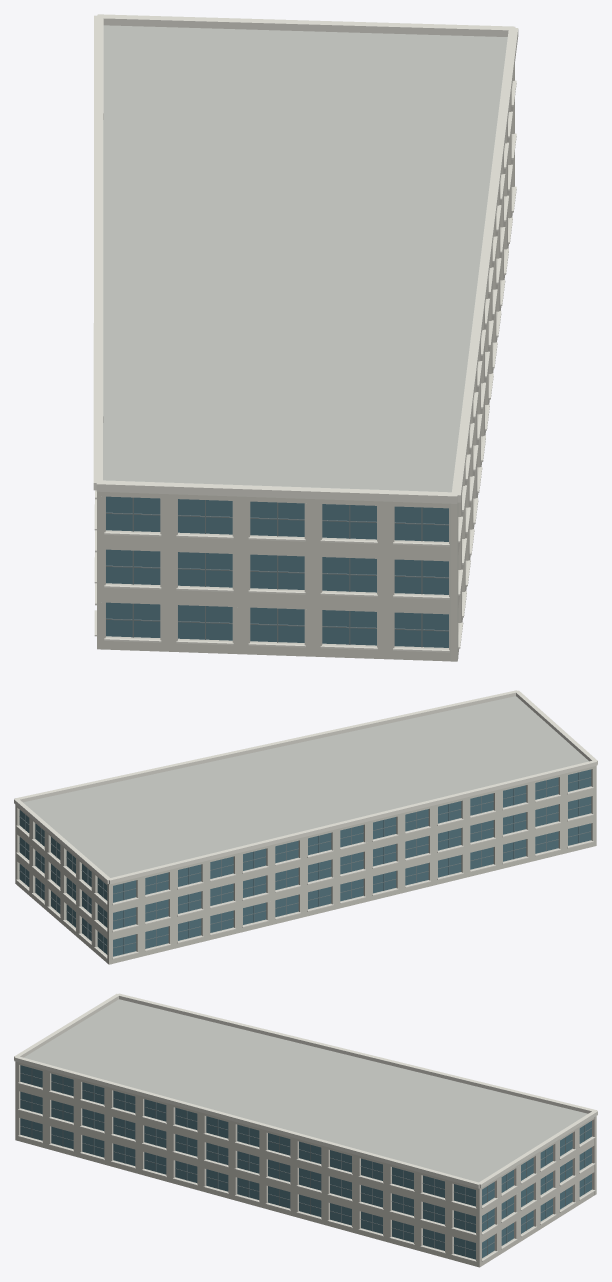
The picture shows the model from 3 angles, top to bottom: view 1: azimuth 30°, elevation 25°; view 2: azimuth 150°, elevation 25°; view 3: azimuth 270°, elevation 25°; orthographic projection. The views are drawn at different scales.
Parts seen in each view (by area): view 1: roof, wall, glass, trim, metal; view 2: roof, wall, glass, trim, metal; view 3: roof, wall, glass, trim, metal.
Part boxes in pixels (<box>): roof: <box>103,25,507,492</box>; wall: <box>97,64,514,661</box>; glass: <box>106,496,448,647</box>; trim: <box>93,14,518,652</box>; metal: <box>106,497,448,647</box>; roof: <box>23,696,588,877</box>; wall: <box>15,766,596,964</box>; glass: <box>19,769,591,956</box>; trim: <box>14,690,597,959</box>; metal: <box>19,772,591,953</box>; roof: <box>24,999,587,1182</box>; wall: <box>15,1061,596,1267</box>; glass: <box>20,1065,591,1259</box>; trim: <box>14,993,597,1261</box>; metal: <box>20,1068,592,1256</box>.
Bounding box in the file's own units: 48.02 × 9.74 × 61.91.
